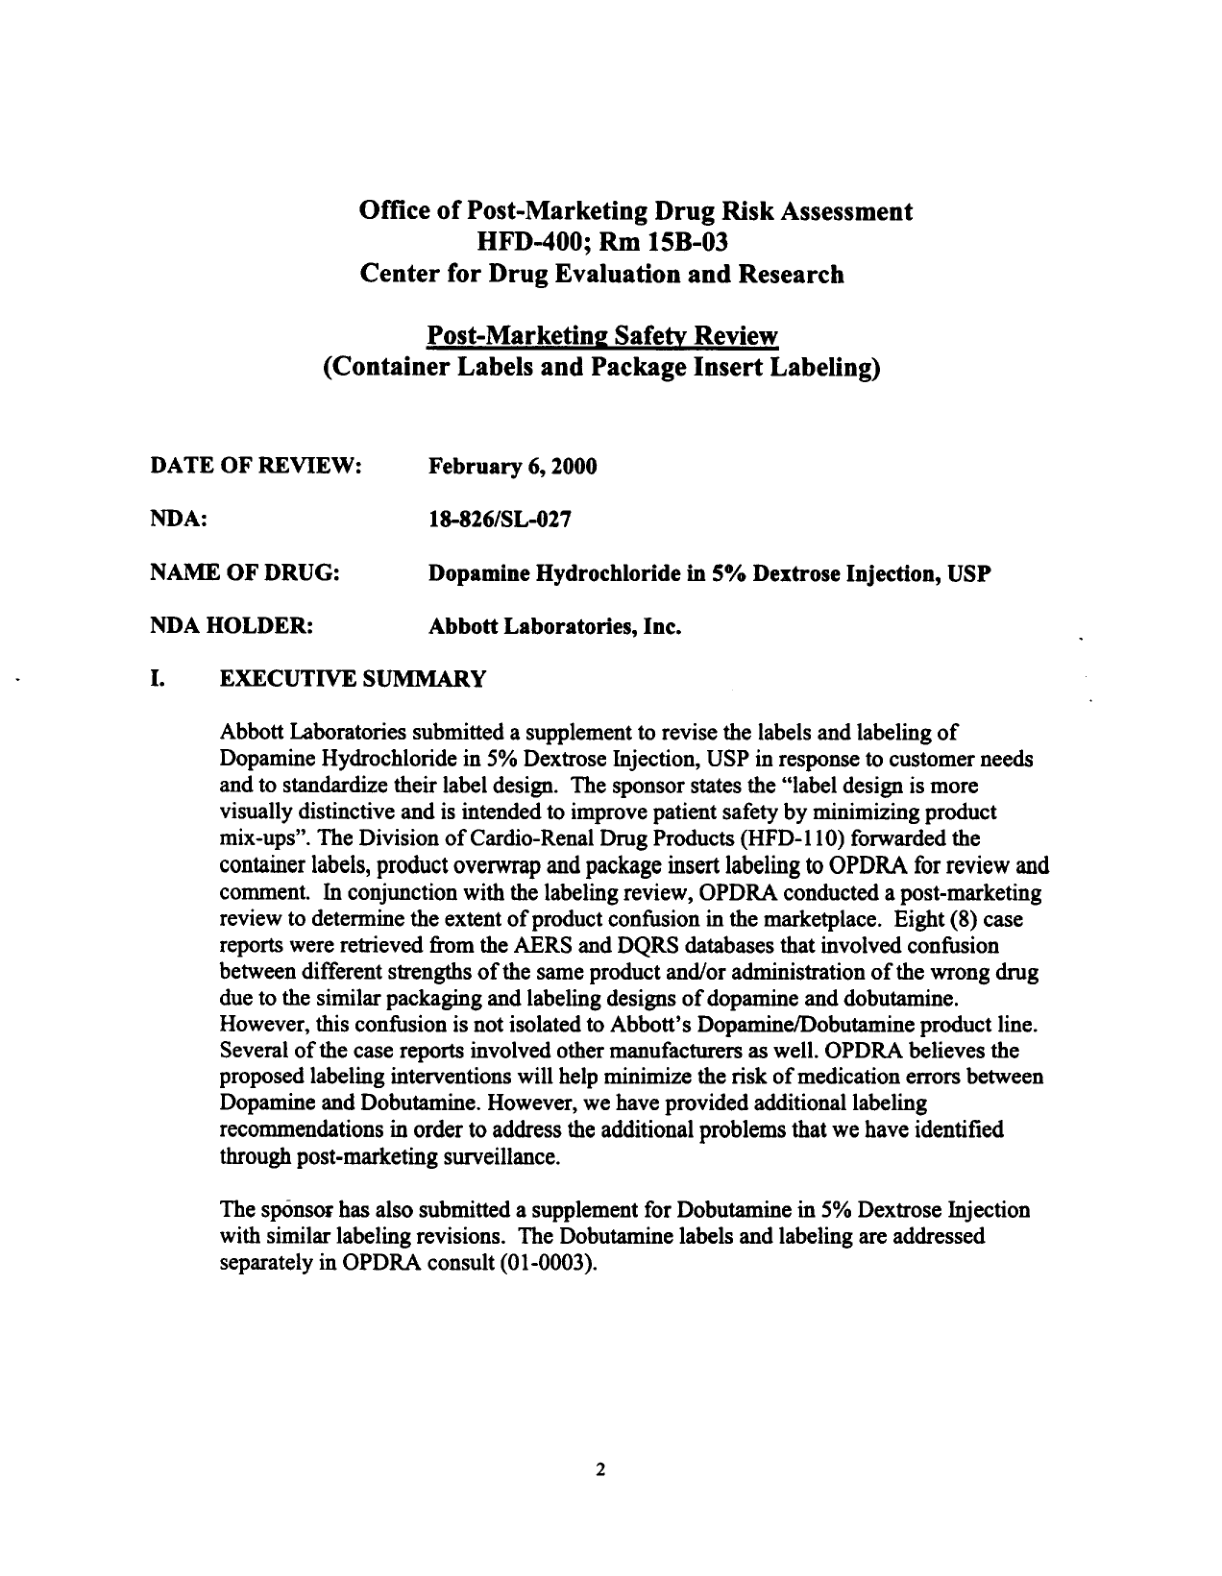nolines: (148, 452, 992, 638)
